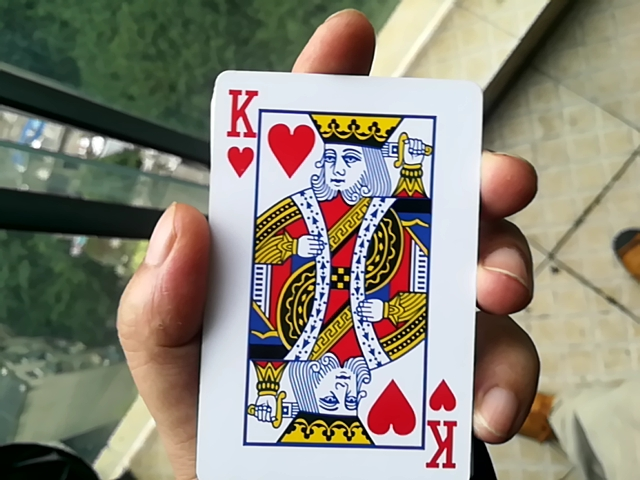hx k: (186, 57, 470, 479)
